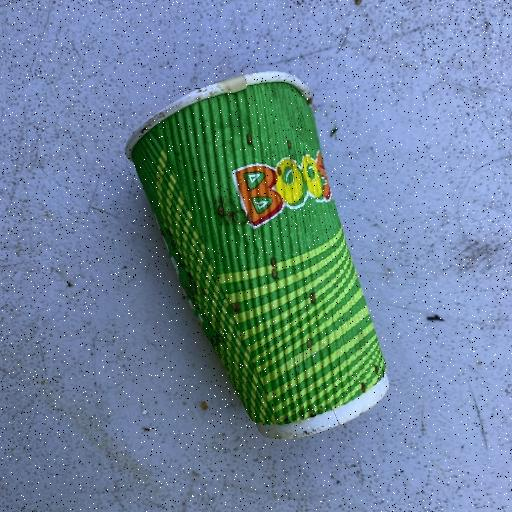Cardboard: (124, 70, 390, 438)
